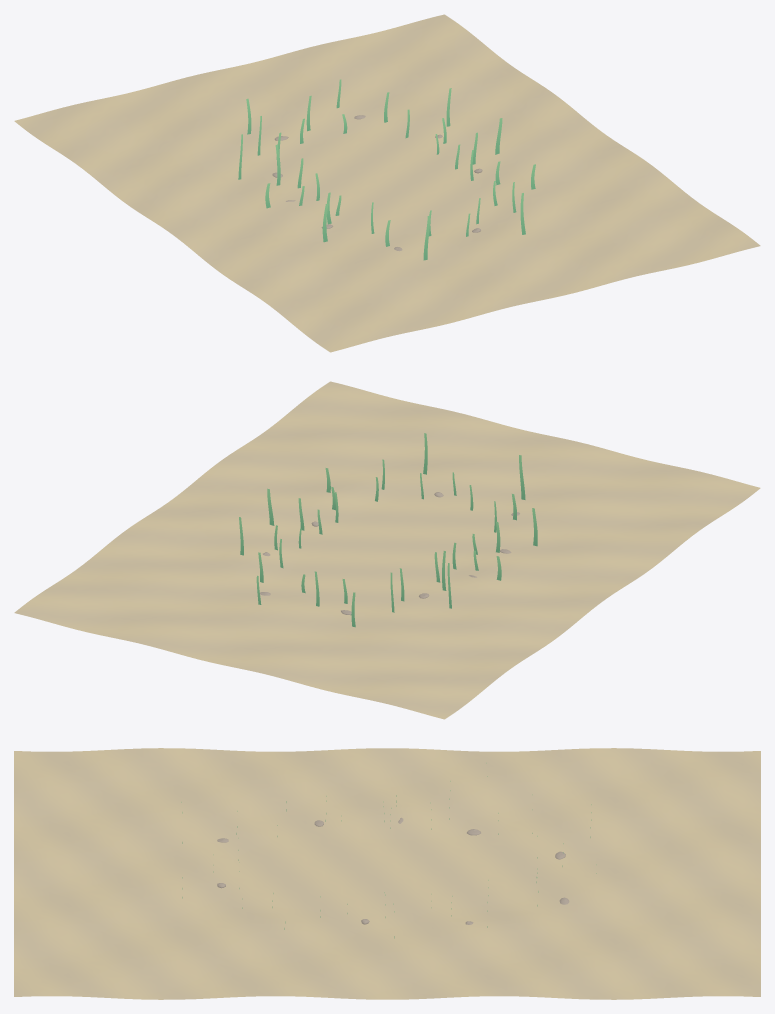
File: env.glb
3 renders of one model, top to bottom at view 1: azimuth 30°, elevation 25°; view 2: azimuth 150°, elevation 25°; view 3: azimuth 270°, elevation 25°, orthographic. The views are drawn at different scales.
Visible parts, largest first — view 1: sand_floor, sway_kelp; view 2: sand_floor, sway_kelp; view 3: sand_floor, reef.
Part boxes in pixels (x1,y1,x2,y2): sand_floor: [14, 14, 760, 352]; sway_kelp: [238, 79, 535, 260]; sand_floor: [14, 381, 760, 719]; sway_kelp: [239, 433, 537, 627]; sand_floor: [14, 748, 760, 999]; reef: [217, 817, 569, 924].
Size of the model in its own units: 110 by 11.45 by 140.
